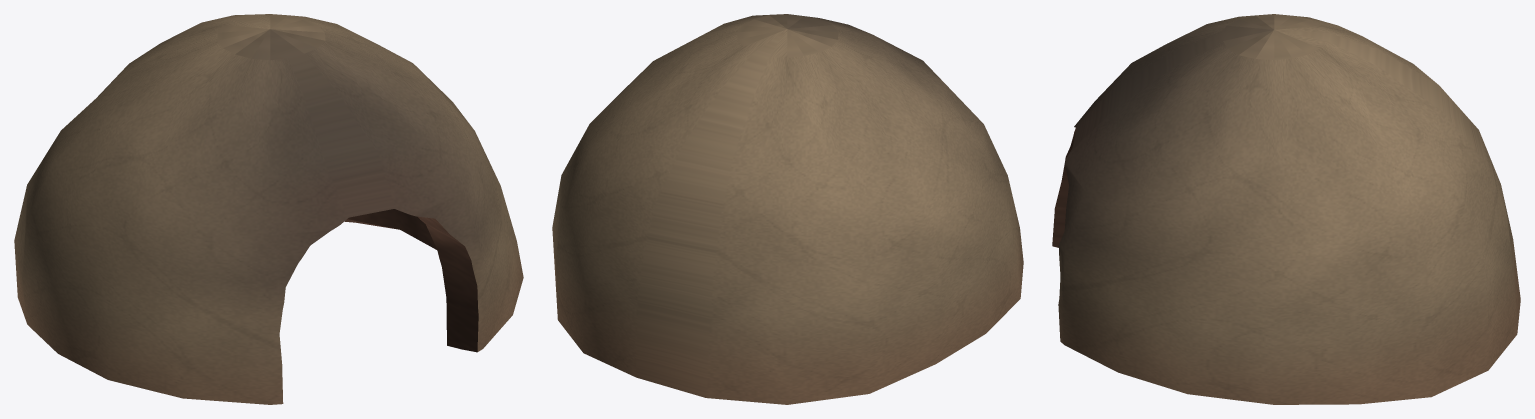
Rendered from hearth_dome_top.glb.
3 views of the same model, side by side, from view 1: azimuth 30°, elevation 25°; view 2: azimuth 150°, elevation 25°; view 3: azimuth 270°, elevation 25° (orthographic). The views are drawn at different scales.
Visible parts, largest first — view 1: HEARTH_DOME_TOP; view 2: HEARTH_DOME_TOP; view 3: HEARTH_DOME_TOP.
Part boxes in pixels (<box>): HEARTH_DOME_TOP: <box>14,14,523,404</box>; HEARTH_DOME_TOP: <box>552,14,1023,404</box>; HEARTH_DOME_TOP: <box>1052,14,1520,404</box>.
Size of the model in its own units: 0.9702 by 0.6198 by 0.9125.
Materials: 1 (1 with a texture image).
